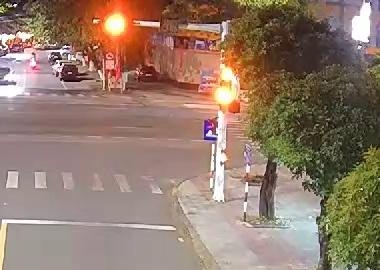stop_line: (3, 219, 175, 230)
yellow_light: (101, 11, 129, 39), (214, 86, 234, 105)
